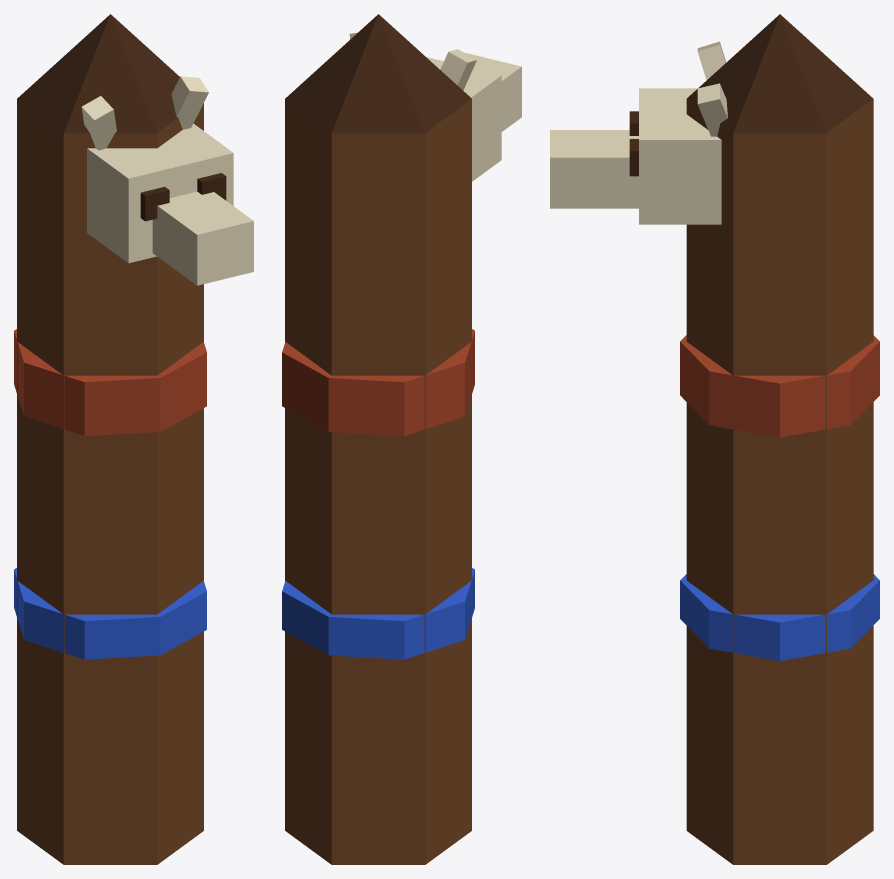
The model's file is WallCorner.glb.
3 views of the same model, side by side, from view 1: azimuth 30°, elevation 25°; view 2: azimuth 150°, elevation 25°; view 3: azimuth 270°, elevation 25° (orthographic).
Visible parts, largest first — view 1: WallCorner; view 2: WallCorner; view 3: WallCorner.
Boxes of the visible parts, x1=… form: WallCorner: x1=14, y1=14, x2=253, y2=864; WallCorner: x1=282, y1=14, x2=521, y2=864; WallCorner: x1=550, y1=14, x2=879, y2=864.
Size of the model in its own units: 0.47 by 2.12 by 0.776.
